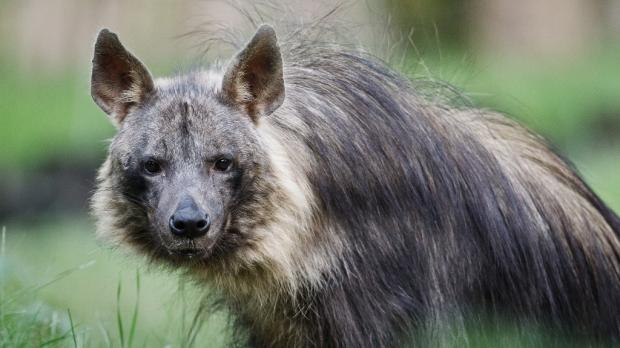hyena: (89, 15, 620, 344)
